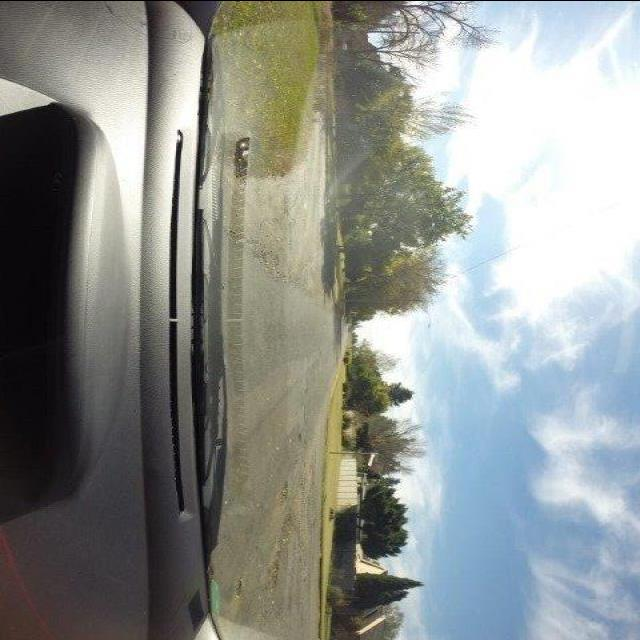lubang: (267, 540, 289, 590), (274, 479, 290, 506), (234, 575, 248, 597)
